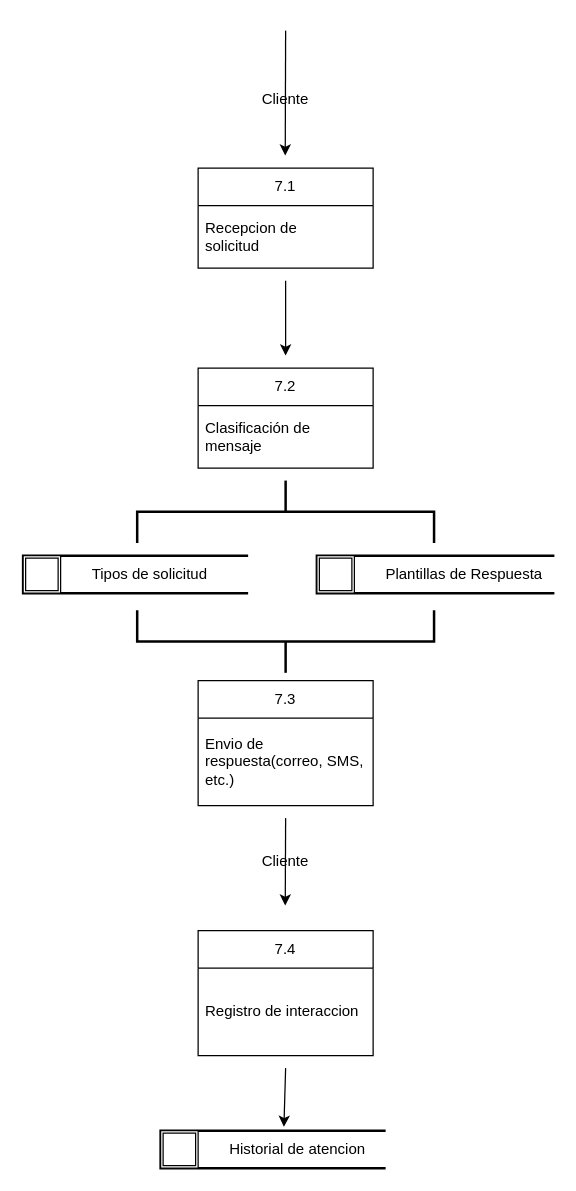
Image size: 576x1191. Some labels were removed from this diagram. Here are the shapes that lost their labels. From the top down, the centre of each, then its label:
At point (41, 573): "D3".
At point (335, 573): "D2".
At point (178, 1148): "D1".
